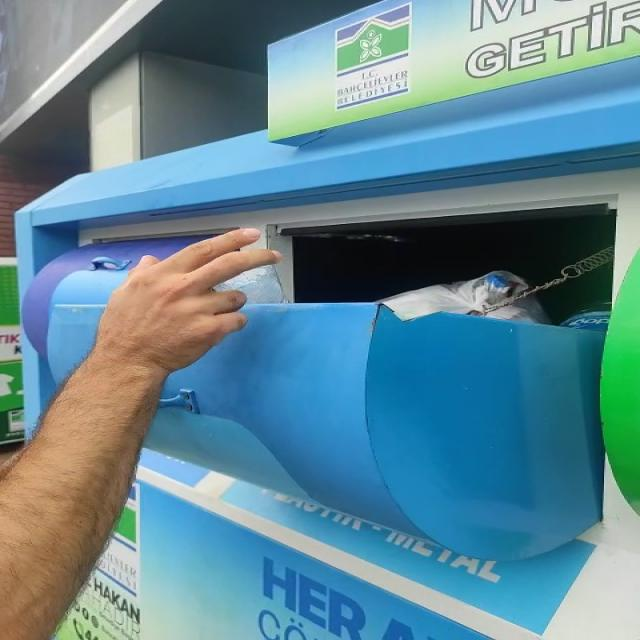plastic: (213, 266, 288, 304)
